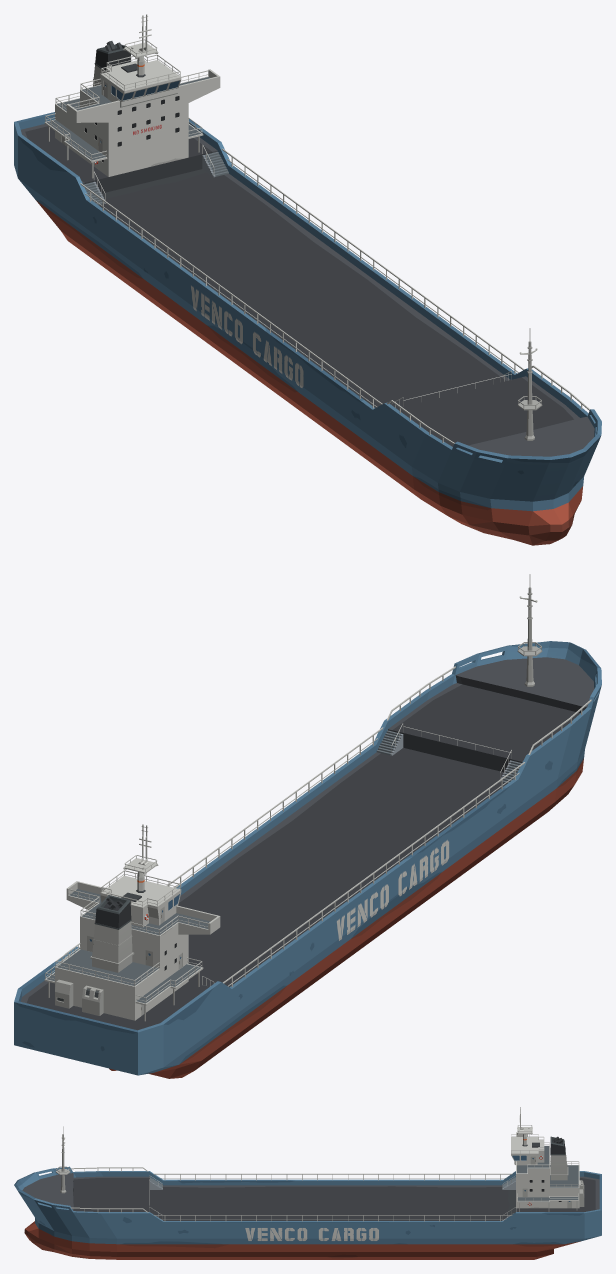
The model's file is Cargo Ship.fbx.
The picture shows the model from 3 angles, top to bottom: view 1: azimuth 30°, elevation 25°; view 2: azimuth 150°, elevation 25°; view 3: azimuth 270°, elevation 25°; orthographic projection. The views are drawn at different scales.
Visible parts, largest first — view 1: Cargo_Ship; view 2: Cargo_Ship; view 3: Cargo_Ship.
Part boxes in pixels (left/top/right/bottom): Cargo_Ship: left=14, top=14, right=601, bottom=545; Cargo_Ship: left=14, top=574, right=601, bottom=1078; Cargo_Ship: left=14, top=1107, right=601, bottom=1259.
Size of the model in its own units: 2026 by 3083 by 11925.
Materials: 1 (1 with a texture image).
